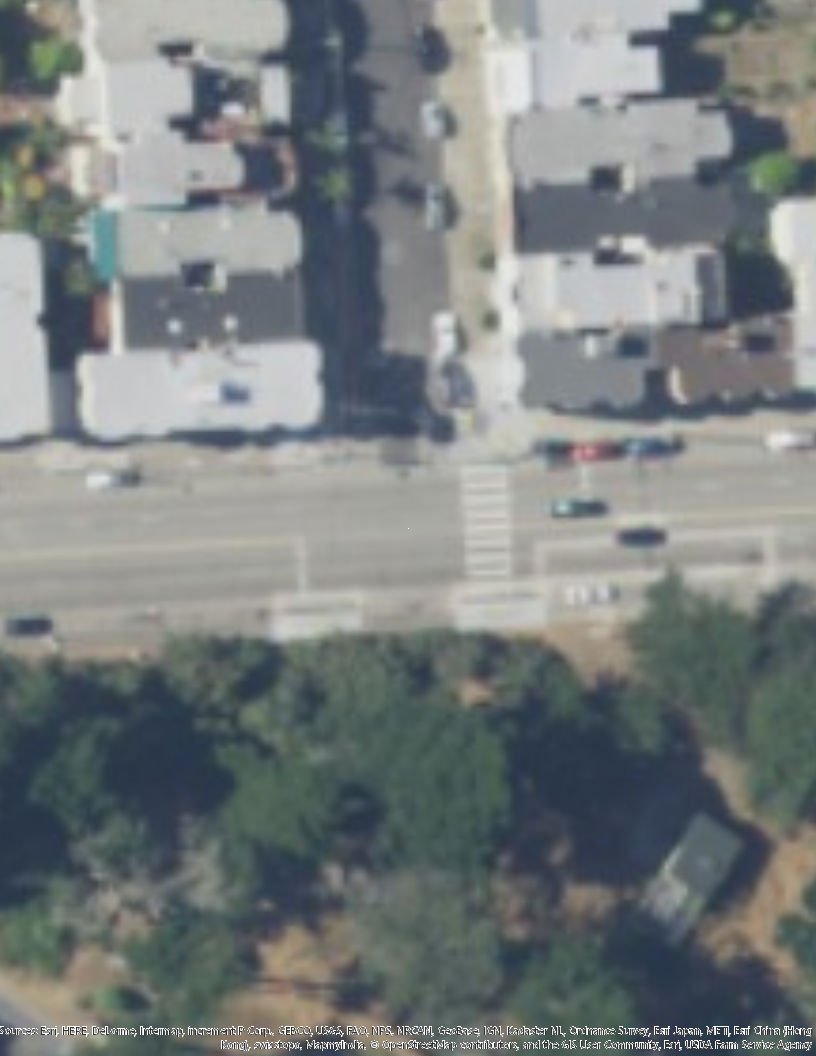zebracross: (464, 461, 513, 581)
